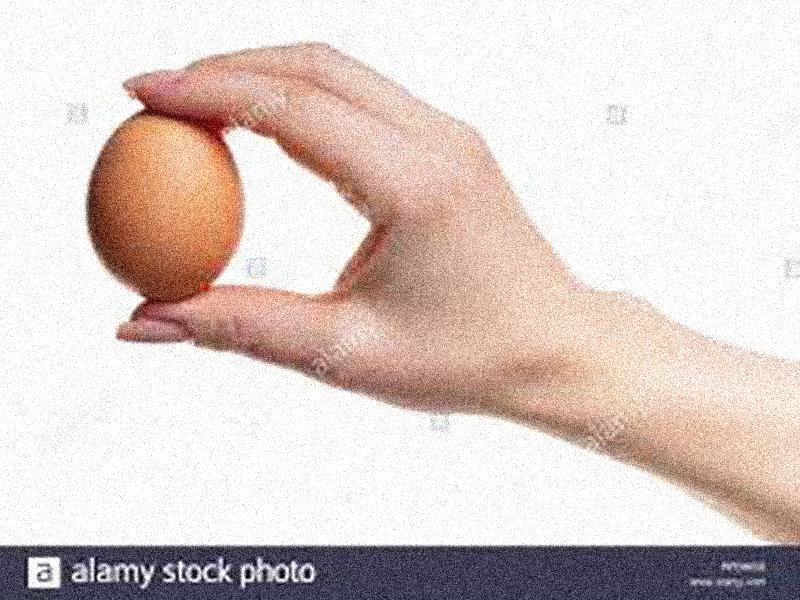Eggs: (85, 109, 251, 300)
